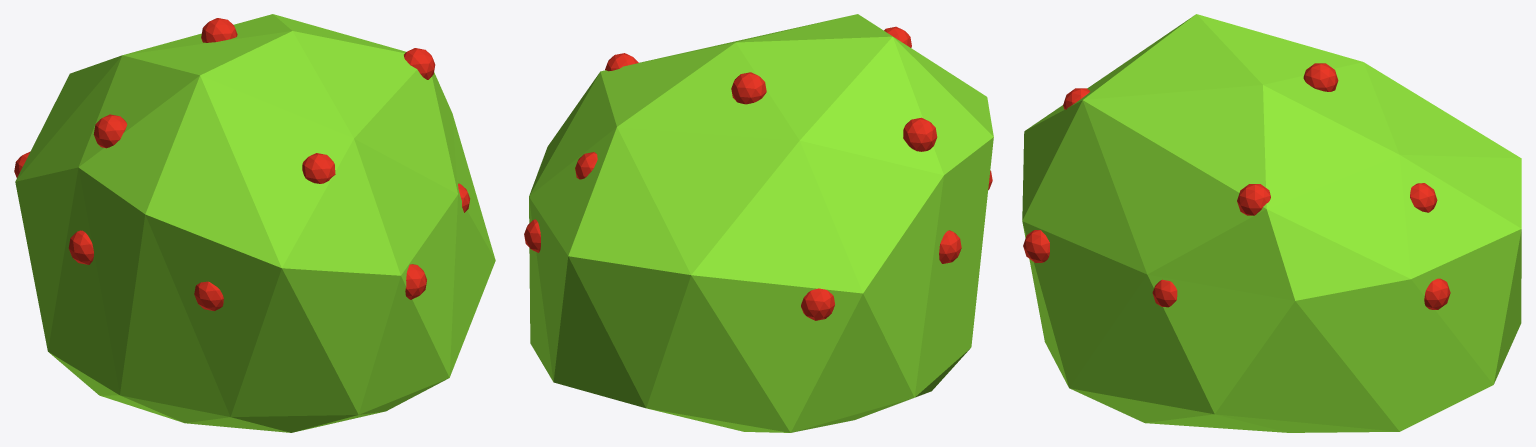
The model's file is Bushes one.fbx.
3 renders of one model, left to right at view 1: azimuth 30°, elevation 25°; view 2: azimuth 150°, elevation 25°; view 3: azimuth 270°, elevation 25°, orthographic. The views are drawn at different scales.
Parts seen in each view (by area): view 1: Esfera geodésica, Esfera geodésica.002, Esfera geodésica.004, Esfera geodésica.001, Esfera geodésica.010, Esfera geodésica.006, Esfera geodésica.003, Esfera geodésica.015; view 2: Esfera geodésica, Esfera geodésica.002, Esfera geodésica.001, Esfera geodésica.007, Esfera geodésica.006; view 3: Esfera geodésica, Esfera geodésica.003, Esfera geodésica.001, Esfera geodésica.015, Esfera geodésica.008, Esfera geodésica.019, Esfera geodésica.009.
Part boxes in pixels (<box>): Esfera geodésica: <box>15,14,495,432</box>; Esfera geodésica.002: <box>93,114,127,148</box>; Esfera geodésica.004: <box>302,153,335,183</box>; Esfera geodésica.001: <box>201,18,237,42</box>; Esfera geodésica.010: <box>194,281,223,311</box>; Esfera geodésica.006: <box>68,230,93,264</box>; Esfera geodésica.003: <box>404,48,435,79</box>; Esfera geodésica.015: <box>405,264,426,299</box>; Esfera geodésica: <box>529,14,993,432</box>; Esfera geodésica.002: <box>903,117,937,151</box>; Esfera geodésica.001: <box>731,72,766,104</box>; Esfera geodésica.007: <box>801,288,834,320</box>; Esfera geodésica.006: <box>939,230,961,263</box>; Esfera geodésica: <box>1022,14,1521,432</box>; Esfera geodésica.003: <box>1237,184,1270,215</box>; Esfera geodésica.001: <box>1303,63,1338,91</box>; Esfera geodésica.015: <box>1023,230,1049,262</box>; Esfera geodésica.008: <box>1424,278,1450,309</box>; Esfera geodésica.019: <box>1410,183,1437,212</box>; Esfera geodésica.009: <box>1152,279,1177,307</box>.
Size of the model in its own units: 700 by 541 by 780.
